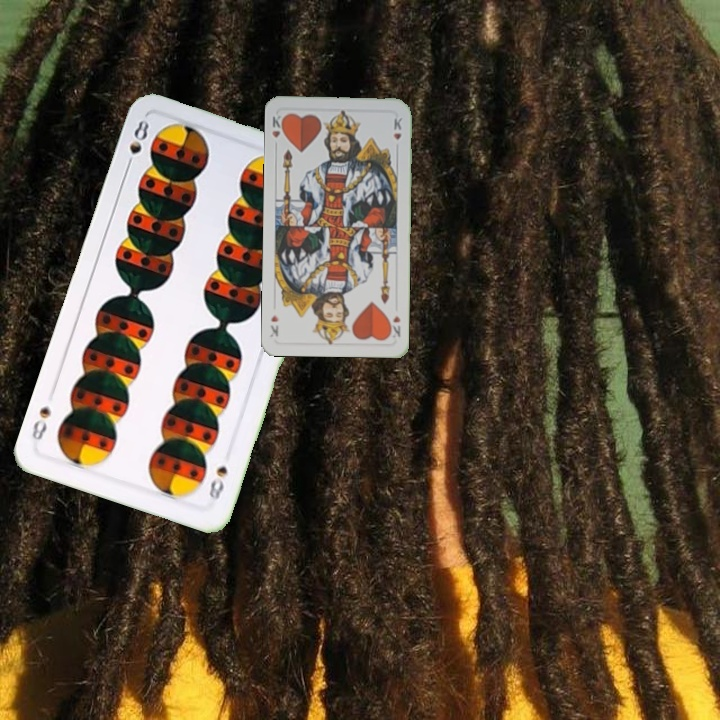HK: (268, 111, 287, 151), (385, 311, 403, 340)
S8: (121, 115, 152, 173), (205, 462, 230, 504)
